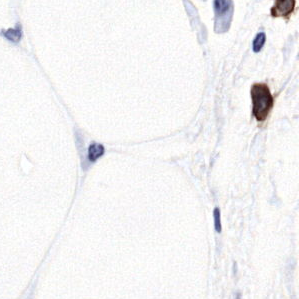Lymphocyte: (250, 83, 275, 121)
